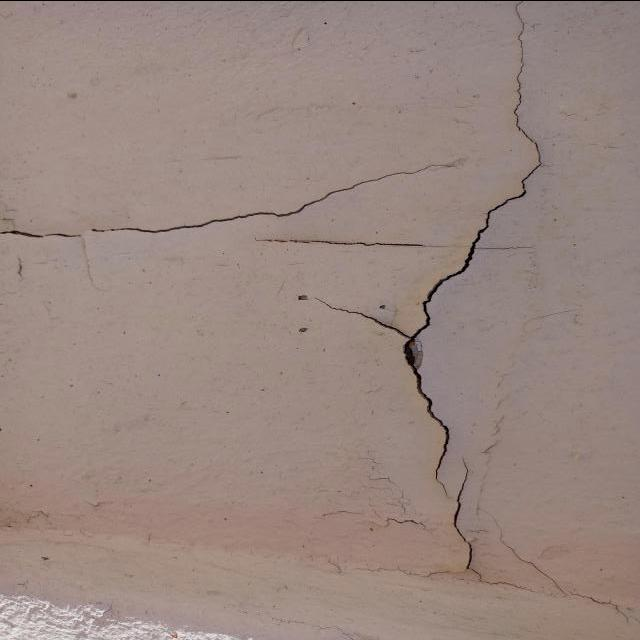SurfaceCrack: (376, 1, 571, 636)
